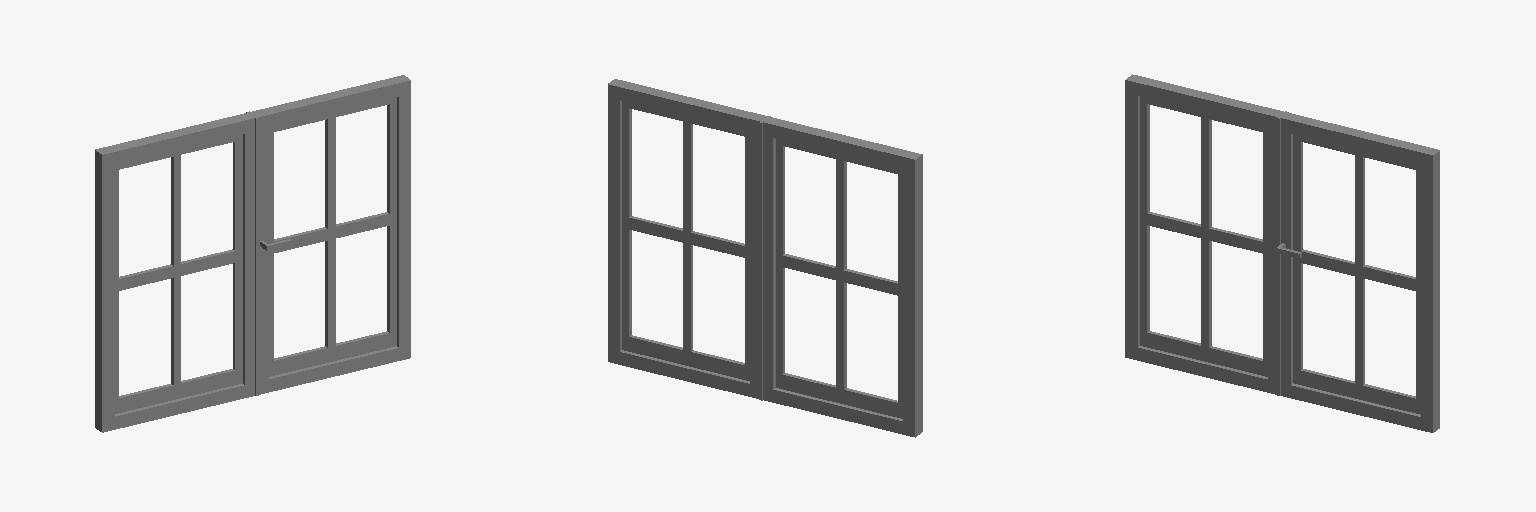
The model's file is Window.obj.
3 views of the same model, side by side, from view 1: azimuth 30°, elevation 25°; view 2: azimuth 150°, elevation 25°; view 3: azimuth 330°, elevation 25° (orthographic).
Visible parts, largest first — view 1: Object.6, Object.1, Object.7, Object.9, Object.3, Object.2, Object.4, Object.15, Object.11, Object.14, Object.12, Object.17 (+5 smaller); view 2: Object.1, Object.6, Object.7, Object.3, Object.9, Object.2, Object.14, Object.4, Object.15, Object.12, Object.11, Object.16 (+5 smaller); view 3: Object.6, Object.3, Object.7, Object.9, Object.1, Object.4, Object.14, Object.2, Object.10, Object.13, Object.15, Object.17 (+5 smaller).
Part boxes in pixels (x1,y1,x2,y2): Object.6: (104,78,398,166); Object.1: (95,147,114,432); Object.7: (104,346,402,431); Object.9: (115,331,396,413); Object.3: (393,75,410,360); Object.2: (238,112,254,384); Object.4: (251,109,268,381); Object.15: (325,112,335,361); Object.11: (233,134,242,384); Object.14: (171,155,180,384); Object.12: (387,103,396,332); Object.17: (269,212,393,254); Object.1: (903,151,922,437); Object.6: (616,82,912,171); Object.7: (617,350,902,434); Object.3: (608,79,626,364); Object.9: (629,335,902,418); Object.2: (763,116,779,402); Object.14: (836,154,846,403); Object.4: (750,114,766,398); Object.15: (683,116,692,366); Object.12: (622,101,631,351); Object.11: (776,140,784,385); Object.16: (778,254,902,296); Object.6: (1127,77,1427,165); Object.3: (1421,147,1439,432); Object.7: (1127,345,1420,429); Object.9: (1140,331,1420,414); Object.1: (1125,74,1144,357); Object.4: (1279,112,1297,384); Object.14: (1201,117,1211,347); Object.2: (1268,109,1286,381); Object.10: (1140,102,1149,332); Object.13: (1293,136,1302,369); Object.15: (1355,153,1364,385); Object.17: (1295,249,1420,292).
Size of the model in its own units: 1543 by 1327 by 130.